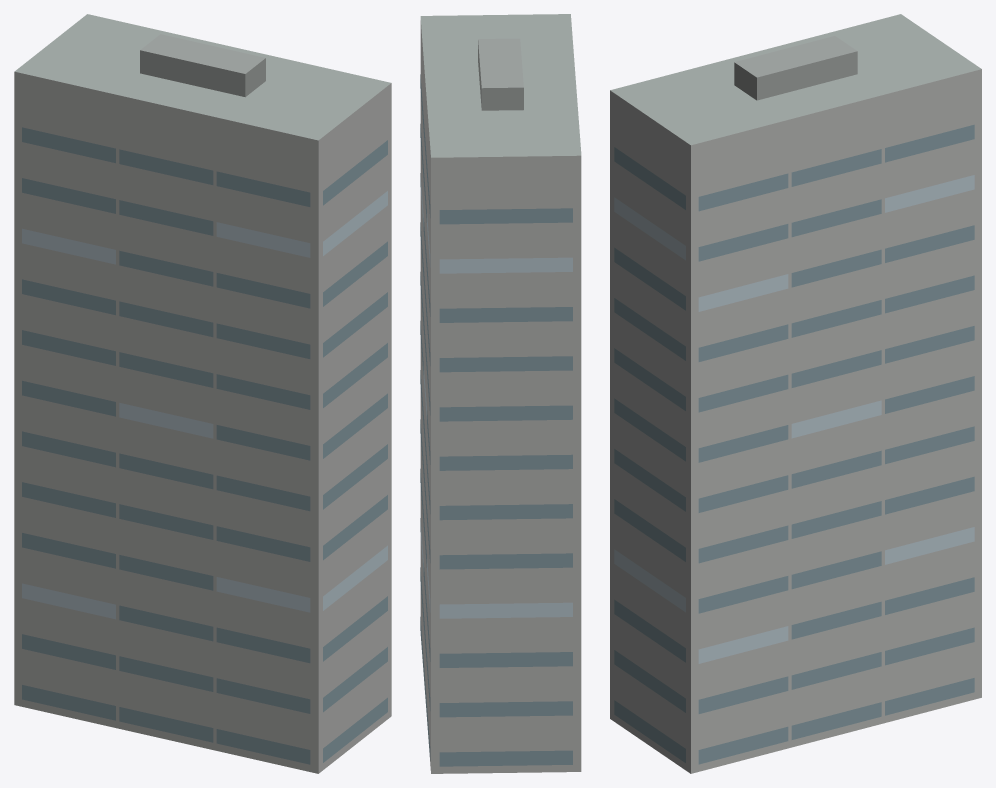
The model's file is fallback-sk-bukhansan-city-143.glb.
3 views of the same model, side by side, from view 1: azimuth 30°, elevation 25°; view 2: azimuth 150°, elevation 25°; view 3: azimuth 270°, elevation 25° (orthographic). The views are drawn at different scales.
Parts seen in each view (by area): view 1: fallback-sk-bukhansan-city-143; view 2: fallback-sk-bukhansan-city-143; view 3: fallback-sk-bukhansan-city-143.
Boxes of the visible parts, x1,y1,x2,y2 form: fallback-sk-bukhansan-city-143: [14, 14, 391, 773]; fallback-sk-bukhansan-city-143: [420, 14, 581, 773]; fallback-sk-bukhansan-city-143: [610, 14, 981, 773].
Size of the model in its own units: 29.41 by 68 by 35.18.
